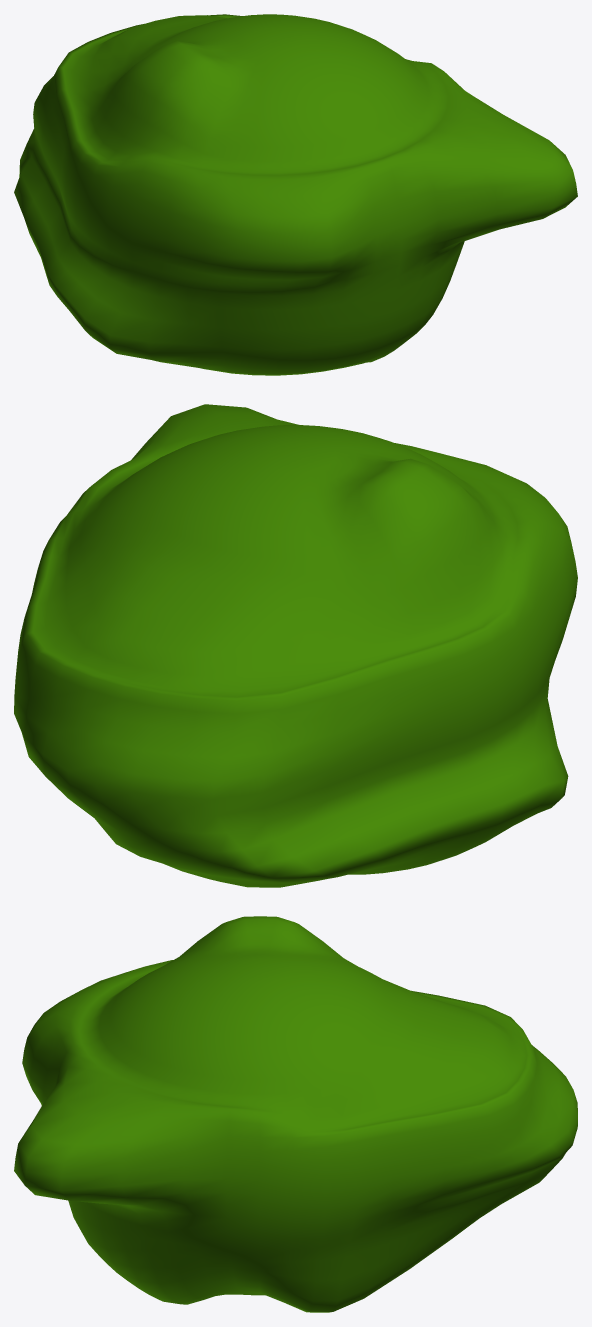
Rendered from Sausage.fbx.
3 views of the same model, one above another, from view 1: azimuth 30°, elevation 25°; view 2: azimuth 150°, elevation 25°; view 3: azimuth 270°, elevation 25° (orthographic). The views are drawn at different scales.
Visible parts, largest first — view 1: Alien_Sausage_Topping; view 2: Alien_Sausage_Topping; view 3: Alien_Sausage_Topping.
Part boxes in pixels (box(x1,y1,x2,y2)): Alien_Sausage_Topping: box(14, 14, 577, 375); Alien_Sausage_Topping: box(14, 404, 577, 887); Alien_Sausage_Topping: box(14, 916, 577, 1312).
Size of the model in its own units: 10 by 7.3 by 11.91.
